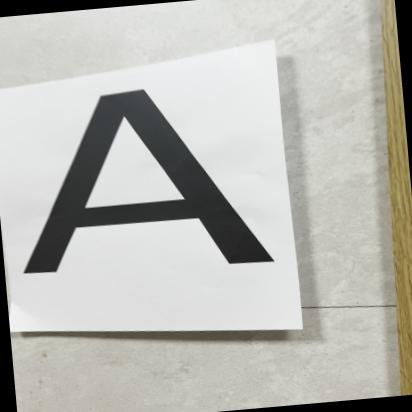seat: (6, 69, 277, 316)
